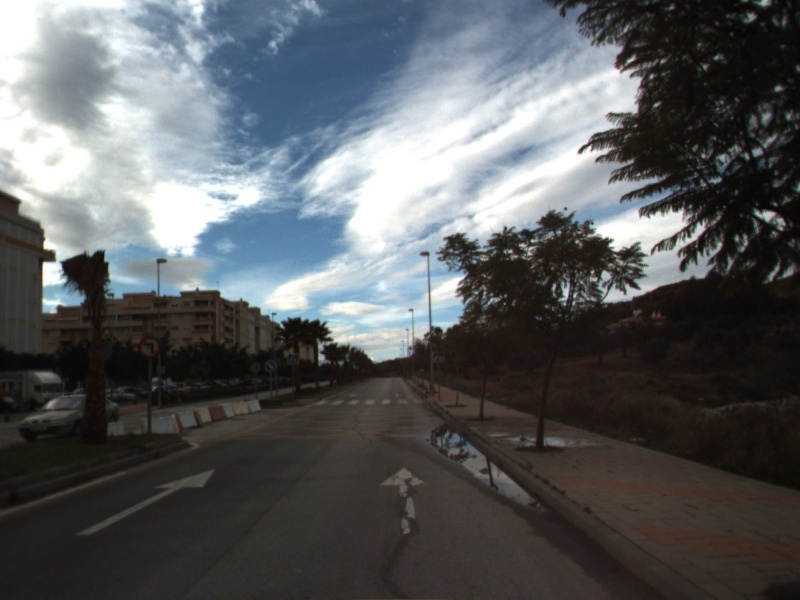STRAIGHT: (77, 468, 215, 535), (378, 465, 431, 537)
